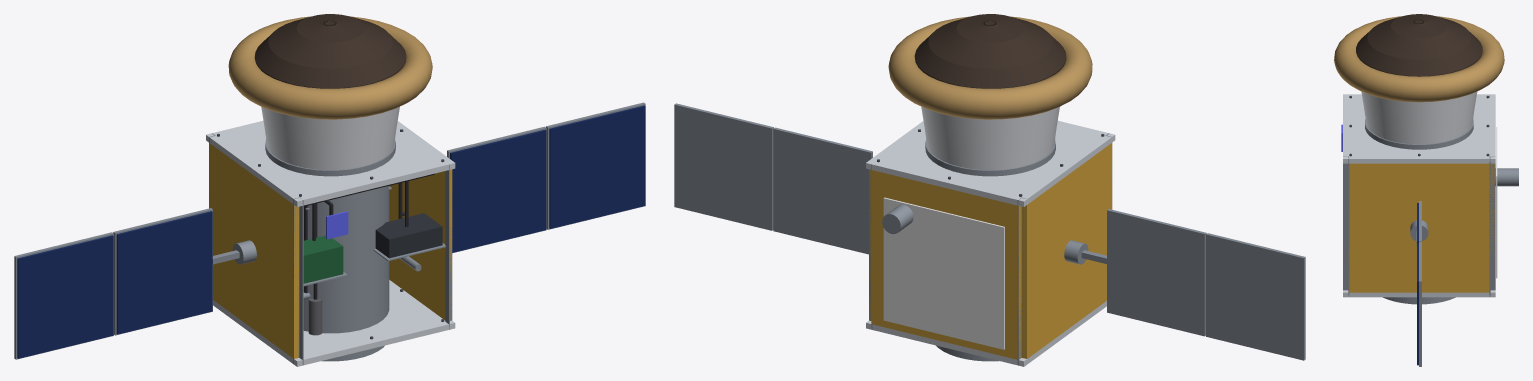
File: SP-ORG-detail.glb
The picture shows the model from 3 angles, left to right: view 1: azimuth 30°, elevation 25°; view 2: azimuth 150°, elevation 25°; view 3: azimuth 270°, elevation 25°; orthographic projection. The views are drawn at different scales.
Parts seen in each view (by area): view 1: side_panel_mX, solar_panel_mX1, solar_panel_pX2, solar_panel_mX2, solar_panel_pX1, nose, heat_shield__packed_, central_thrust_tube__CFRP__4_mm_, top_deck__honeycomb_20_mm_, capsule_backshell, bottom_deck__honeycomb_20_mm_, side_panel_pX (+11 smaller); view 2: radiator__pY_face_, side_panel_mX, panel_frame_mX2, panel_frame_pX2, panel_frame_mX1, panel_frame_pX1, nose, heat_shield__packed_, side_panel_pY, top_deck__honeycomb_20_mm_, capsule_backshell, bottom_deck__honeycomb_20_mm_ (+3 smaller); view 3: side_panel_pX, nose, heat_shield__packed_, top_deck__honeycomb_20_mm_, capsule_backshell, longeron_pXpY__Lmangle_24_x_24_x_4_mm_, longeron_pXmY__Lmangle_24_x_24_x_4_mm_, bottom_deck__honeycomb_20_mm_, separation_interface, star_tracker, panel_frame_pX2, launch_separation_ring (+4 smaller).
Boxes of the visible parts, x1,y1,x2,y2 form: side_panel_mX: [209, 143, 299, 358]; solar_panel_mX1: [116, 211, 212, 334]; solar_panel_pX2: [549, 105, 645, 228]; solar_panel_mX2: [17, 235, 113, 358]; solar_panel_pX1: [450, 130, 546, 252]; nose: [254, 14, 406, 88]; heat_shield__packed_: [228, 16, 432, 119]; central_thrust_tube__CFRP__4_mm_: [303, 186, 389, 333]; top_deck__honeycomb_20_mm_: [206, 120, 455, 206]; capsule_backshell: [261, 106, 399, 169]; bottom_deck__honeycomb_20_mm_: [213, 280, 455, 366]; side_panel_pX: [389, 169, 452, 320]; radiator__pY_face_: [883, 197, 1004, 349]; side_panel_mX: [1021, 143, 1112, 358]; panel_frame_mX2: [1206, 233, 1305, 360]; panel_frame_pX2: [674, 103, 773, 230]; panel_frame_mX1: [1107, 209, 1206, 336]; panel_frame_pX1: [773, 127, 872, 254]; nose: [914, 14, 1066, 88]; heat_shield__packed_: [888, 16, 1092, 119]; side_panel_pY: [871, 170, 1021, 359]; top_deck__honeycomb_20_mm_: [866, 120, 1115, 206]; capsule_backshell: [921, 106, 1059, 169]; bottom_deck__honeycomb_20_mm_: [866, 301, 1106, 366]; side_panel_pX: [1348, 163, 1490, 292]; nose: [1356, 14, 1482, 76]; heat_shield__packed_: [1334, 16, 1504, 102]; top_deck__honeycomb_20_mm_: [1343, 94, 1495, 163]; capsule_backshell: [1361, 91, 1477, 144]; longeron_pXpY__Lmangle_24_x_24_x_4_mm_: [1489, 156, 1495, 296]; longeron_pXmY__Lmangle_24_x_24_x_4_mm_: [1343, 156, 1349, 296]; bottom_deck__honeycomb_20_mm_: [1343, 290, 1495, 297]; separation_interface: [1365, 119, 1473, 149]; star_tracker: [1495, 168, 1518, 186]; panel_frame_pX2: [1419, 241, 1421, 366]; launch_separation_ring: [1383, 297, 1455, 304].
Bounding box in the file's own units: 2.35 × 1.12 × 0.7161.
